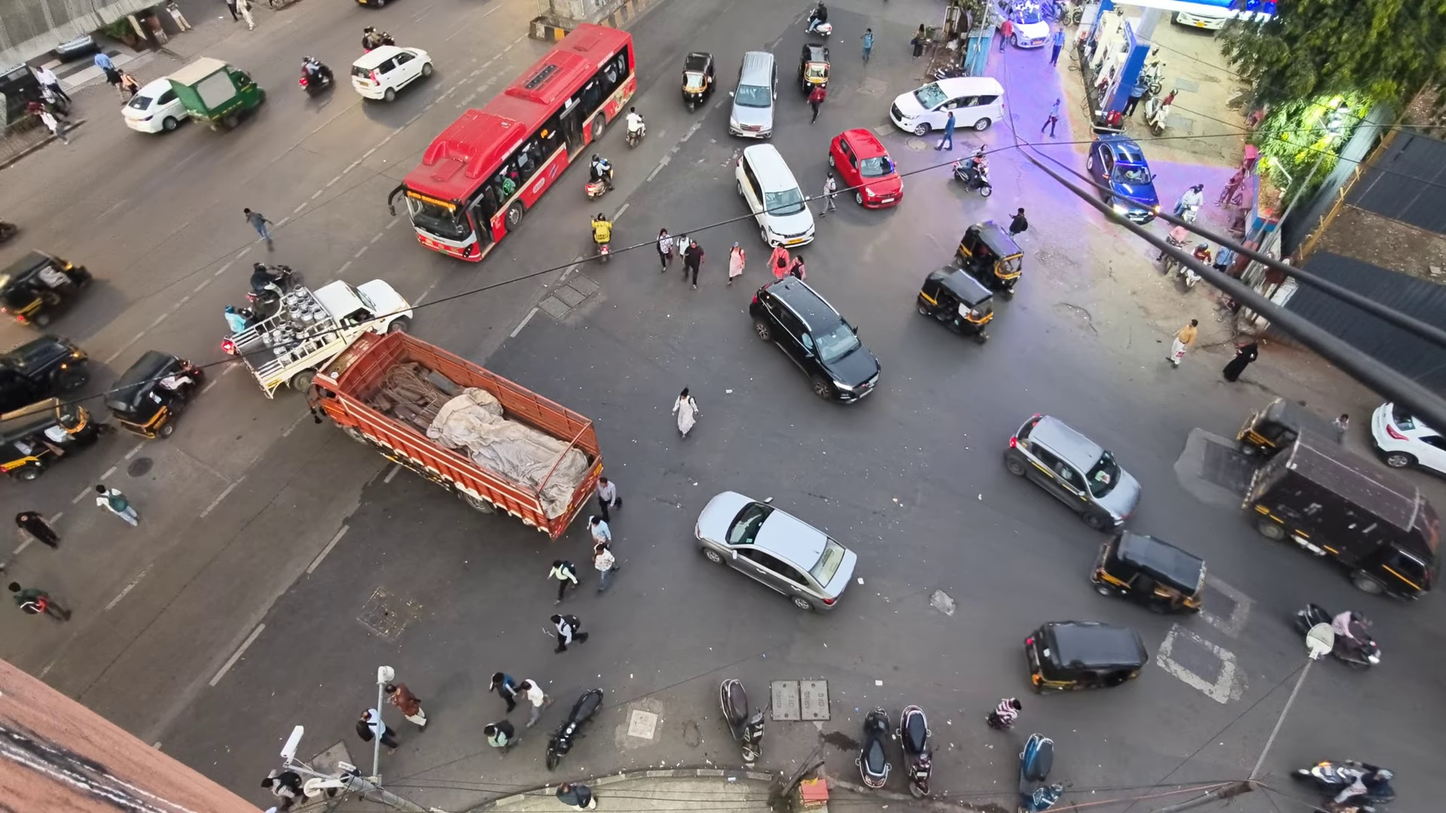driving: (308, 332, 601, 538), (389, 24, 636, 261), (1243, 431, 1440, 598), (222, 280, 412, 397), (694, 492, 856, 610), (749, 276, 880, 402), (1004, 414, 1140, 529), (1091, 530, 1205, 612), (0, 397, 108, 480), (1024, 621, 1147, 692), (105, 350, 204, 438), (734, 145, 815, 248), (166, 56, 264, 129), (0, 251, 92, 327), (0, 334, 88, 412), (889, 76, 1002, 136), (1086, 133, 1159, 224), (1237, 397, 1338, 458), (917, 266, 993, 343), (828, 128, 901, 208), (1293, 603, 1380, 668), (1292, 760, 1395, 812), (1370, 402, 1445, 473), (956, 221, 1023, 297), (545, 688, 604, 771), (351, 45, 434, 101), (728, 51, 777, 138), (720, 678, 765, 764), (121, 78, 189, 132), (1018, 733, 1063, 812), (897, 705, 932, 798), (246, 263, 301, 317), (855, 708, 890, 788), (682, 51, 715, 112), (952, 148, 992, 196), (1010, 2, 1051, 47), (1171, 4, 1234, 30), (798, 43, 828, 96), (1145, 90, 1177, 136), (298, 57, 334, 95), (51, 34, 99, 62), (625, 108, 645, 148), (0, 220, 18, 244)
walking: (8, 582, 70, 620), (383, 684, 427, 728), (355, 708, 398, 751), (261, 769, 303, 812), (96, 485, 138, 526), (15, 511, 59, 547), (519, 680, 551, 727), (550, 614, 588, 652), (1168, 319, 1198, 367), (672, 388, 700, 438), (1224, 341, 1258, 382), (34, 66, 72, 102), (593, 544, 620, 592), (484, 720, 520, 756), (549, 560, 578, 604), (489, 672, 518, 712), (243, 208, 272, 248), (596, 476, 621, 521), (37, 108, 69, 143), (556, 782, 596, 810), (987, 698, 1021, 729), (683, 239, 703, 288), (1173, 184, 1202, 217), (1123, 79, 1147, 117), (166, 0, 192, 32), (819, 172, 837, 217), (935, 111, 955, 151), (727, 242, 745, 285), (1040, 98, 1060, 136), (657, 229, 674, 272), (769, 246, 791, 279), (588, 516, 612, 546), (807, 85, 825, 123), (1213, 245, 1235, 273), (1050, 26, 1065, 65), (236, 0, 255, 29), (120, 72, 140, 99), (911, 24, 926, 58), (1009, 208, 1027, 236), (999, 17, 1012, 52), (1332, 413, 1350, 438), (93, 51, 116, 70), (789, 254, 805, 280), (861, 28, 873, 62), (224, 0, 239, 20)
